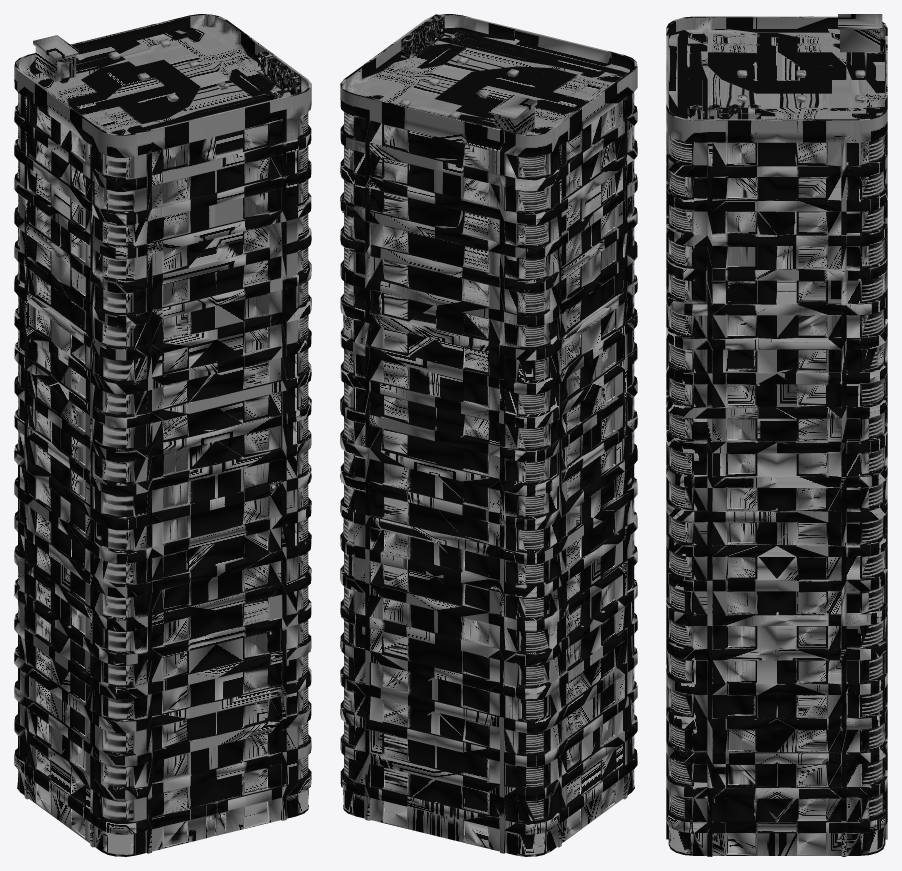
File: tower_b.glb
3 renders of one model, left to right at view 1: azimuth 30°, elevation 25°; view 2: azimuth 150°, elevation 25°; view 3: azimuth 270°, elevation 25°, orthographic.
Parts seen in each view (by area): view 1: Cube.003, AC units.002; view 2: Cube.003, AC units.002; view 3: Cube.003, AC units.002, weird roof things.
Part boxes in pixels (left/top/right/bottom): Cube.003: left=14, top=14, right=311, bottom=856; AC units.002: left=256, top=51, right=301, bottom=100; Cube.003: left=340, top=14, right=637, bottom=856; AC units.002: left=401, top=14, right=466, bottom=58; Cube.003: left=666, top=14, right=887, bottom=856; AC units.002: left=689, top=104, right=760, bottom=119; weird roof things: left=737, top=70, right=865, bottom=102.
Size of the model in its own units: 17.19 by 58 by 15.48.
3 materials, 3 textured.
